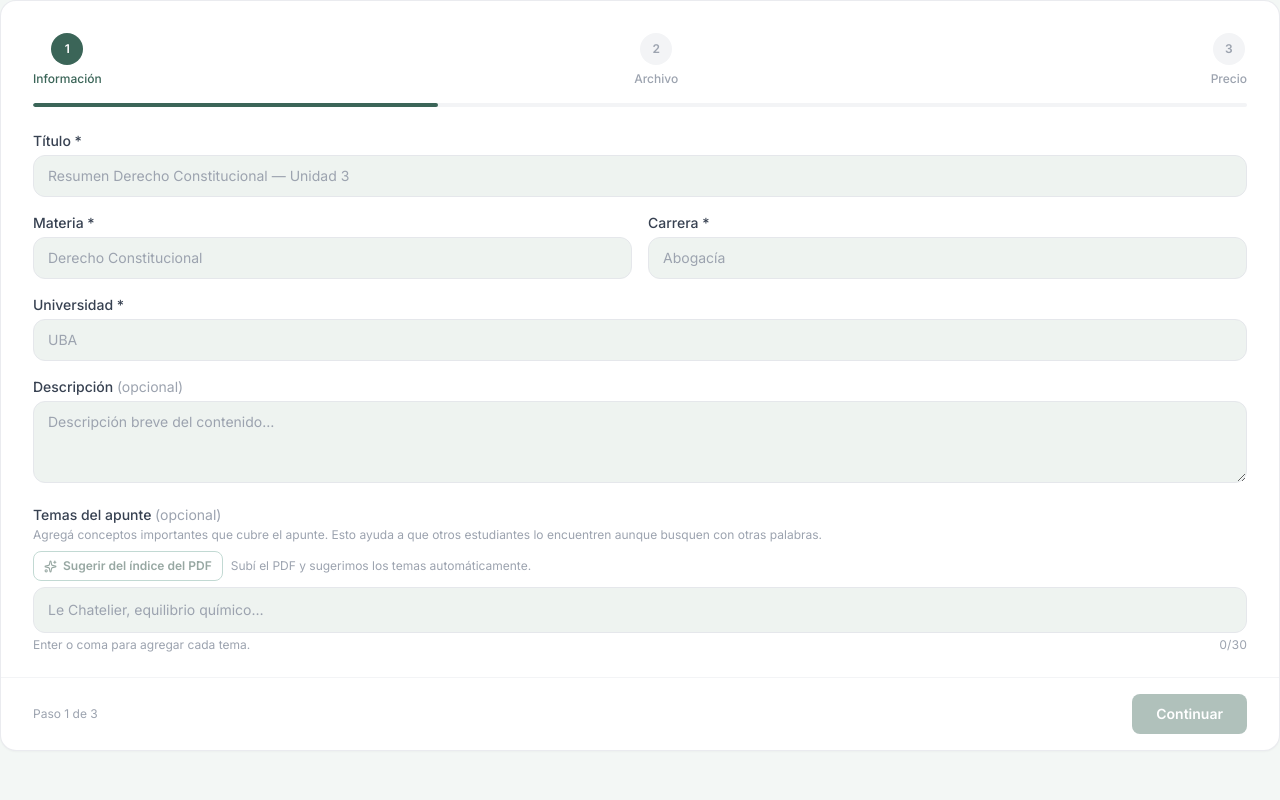
Test: ResumeForm — Temas del apunte (chips) › agrega varios temas separados por coma
The image size is (1280, 800).
Type "sockets, scheduling,3FN" into the field labelled "Temas del apunte (opcional)".
click(640, 610); type("sockets, scheduling,3FN")  # box [44,596,1236,624]
Then press Enter
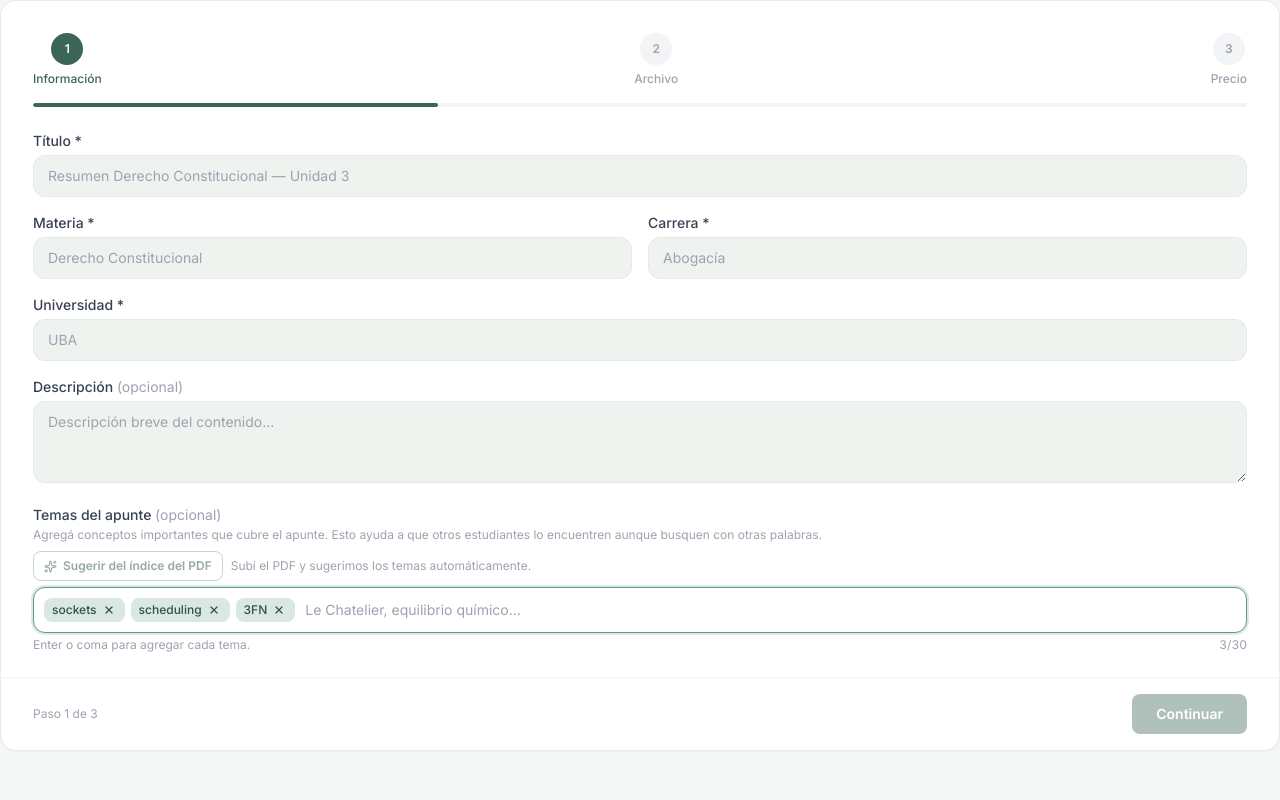
Result: the element showing "sockets" is shown at [44,598,125,622]
Result: the element showing "scheduling" is shown at [131,598,230,622]
Result: the element showing "3FN" is shown at [236,598,295,622]
